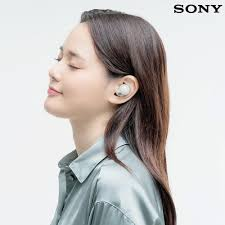earphone: (109, 75, 140, 105)
